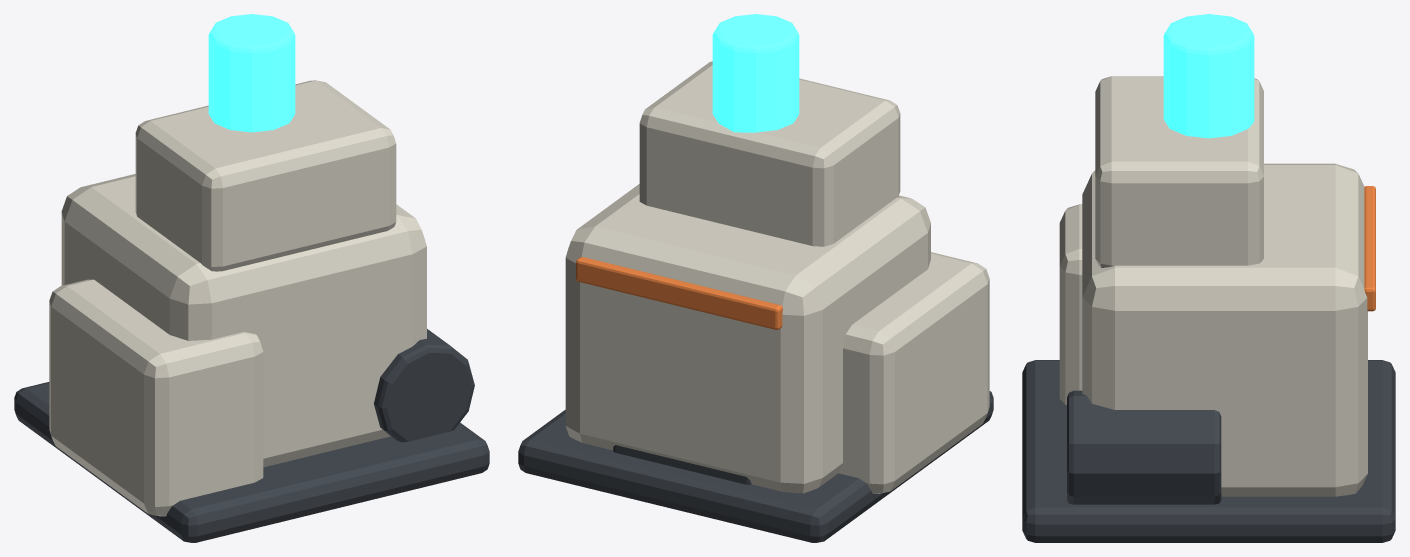
File: human_barracks_t3.glb
The picture shows the model from 3 angles, left to right: view 1: azimuth 30°, elevation 25°; view 2: azimuth 150°, elevation 25°; view 3: azimuth 270°, elevation 25°; orthographic projection. The views are drawn at different scales.
Visible parts, largest first — view 1: bay, armory_wing, command_bridge, muster_pad, part_core, ammo_drum; view 2: bay, command_bridge, armory_wing, muster_pad, part_core, doctrine_light, deployment_door; view 3: bay, command_bridge, muster_pad, ammo_drum, part_core, armory_wing, doctrine_light.
Boxes of the visible parts, box(x1,y1,x2,y2) form: bay: box(61, 174, 426, 467); armory_wing: box(49, 279, 263, 516); command_bridge: box(135, 80, 396, 271); muster_pad: box(14, 382, 489, 542); part_core: box(208, 14, 295, 132); ammo_drum: box(374, 329, 474, 442); bay: box(565, 184, 930, 493); command_bridge: box(639, 61, 900, 246); armory_wing: box(839, 252, 989, 493); muster_pad: box(518, 391, 993, 542); part_core: box(712, 14, 799, 132); doctrine_light: box(576, 257, 782, 329); deployment_door: box(613, 445, 751, 484); bay: box(1082, 163, 1367, 496); command_bridge: box(1095, 76, 1263, 267); muster_pad: box(1022, 360, 1395, 542); ammo_drum: box(1067, 390, 1221, 504); part_core: box(1163, 14, 1254, 138); armory_wing: box(1059, 204, 1082, 404); doctrine_light: box(1364, 186, 1375, 311).
Bounding box in the file's own units: 2.45 × 2.98 × 2.3.
